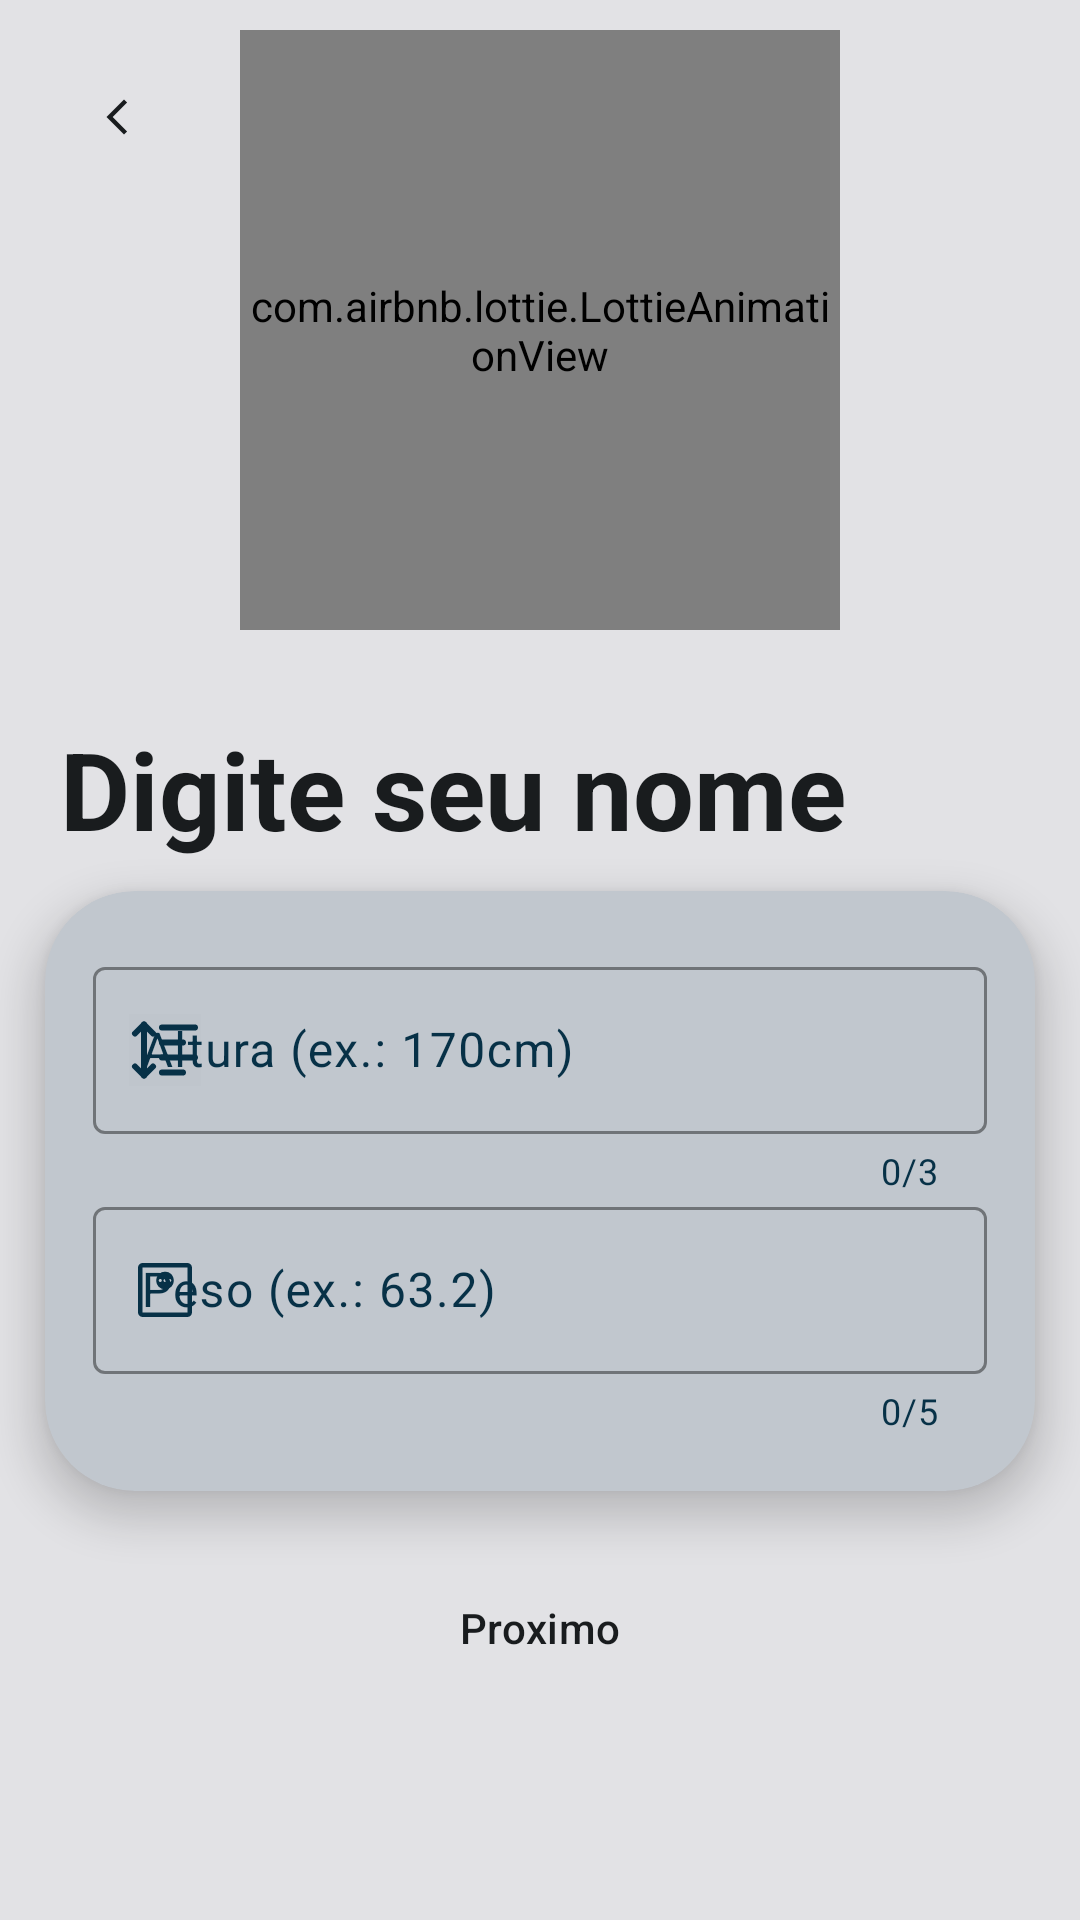

Named icons in this screenshot (1080x1920) and their bounding boxes, (x1, y1, x2, y2):
back: (106, 99, 127, 135)
